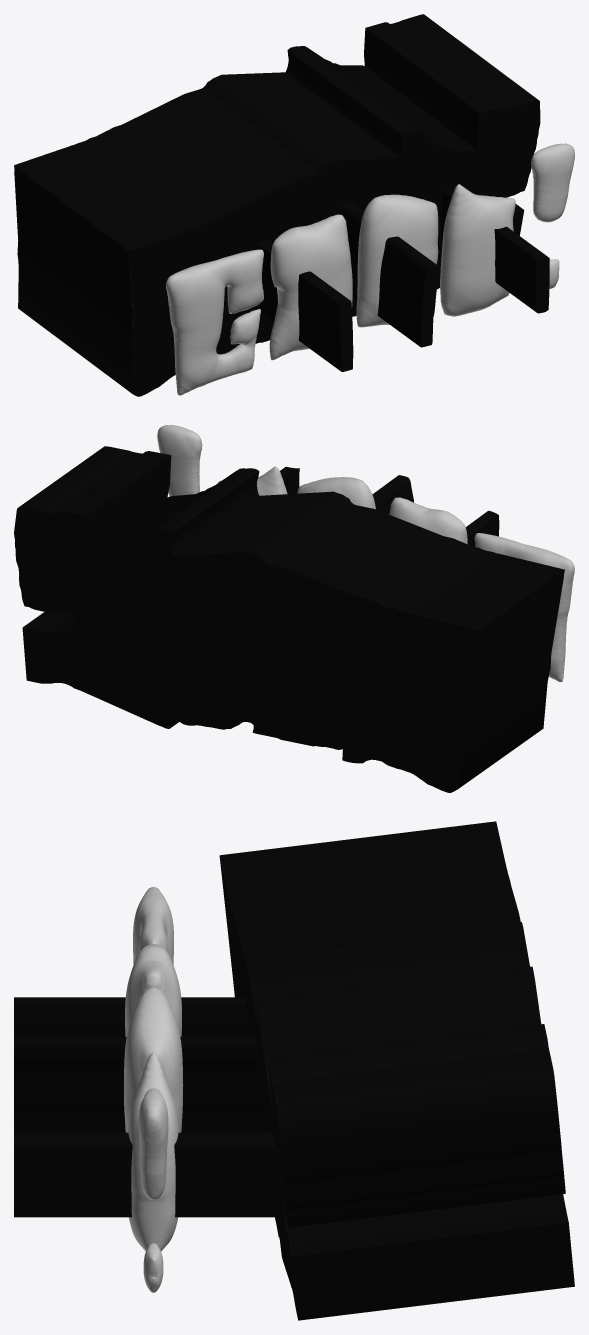
The model's file is good.glb.
3 renders of one model, top to bottom at view 1: azimuth 30°, elevation 25°; view 2: azimuth 150°, elevation 25°; view 3: azimuth 270°, elevation 25°, orthographic. The views are drawn at different scales.
Visible parts, largest first — view 1: mesh_id152, mesh_id111, mesh_id148, mesh_id142, mesh_id135, mesh_id146, mesh_id129, mesh_id127, mesh_id118; view 2: mesh_id152, mesh_id111, mesh_id118, mesh_id142, mesh_id146, mesh_id135, mesh_id129, mesh_id148; view 3: mesh_id152, mesh_id127, mesh_id135, mesh_id129, mesh_id148, mesh_id146, mesh_id118, mesh_id142, mesh_id111, mesh_id122.
Part boxes in pixels (x1,y1,x2,y2): mesh_id152: [14, 14, 540, 396]; mesh_id111: [166, 249, 263, 395]; mesh_id148: [440, 184, 515, 316]; mesh_id142: [269, 214, 352, 360]; mesh_id135: [339, 202, 439, 347]; mesh_id146: [356, 194, 438, 327]; mesh_id129: [255, 240, 353, 371]; mesh_id127: [440, 189, 549, 313]; mesh_id118: [531, 143, 574, 222]; mesh_id152: [14, 446, 564, 792]; mesh_id111: [474, 533, 574, 681]; mesh_id118: [157, 425, 202, 496]; mesh_id142: [389, 497, 467, 544]; mesh_id146: [297, 477, 375, 509]; mesh_id135: [372, 475, 413, 514]; mesh_id129: [466, 510, 499, 546]; mesh_id148: [218, 466, 287, 495]; mesh_id152: [219, 821, 574, 1320]; mesh_id127: [14, 1132, 282, 1217]; mesh_id135: [14, 1036, 265, 1132]; mesh_id129: [14, 997, 249, 1036]; mesh_id148: [127, 1051, 179, 1251]; mesh_id146: [124, 987, 183, 1132]; mesh_id118: [138, 1088, 168, 1200]; mesh_id142: [125, 944, 181, 1036]; mesh_id111: [133, 886, 173, 964]; mesh_id122: [143, 1243, 163, 1292].
Size of the model in its own units: 0.2599 by 0.1171 by 0.201.
10 materials, 10 textured.
